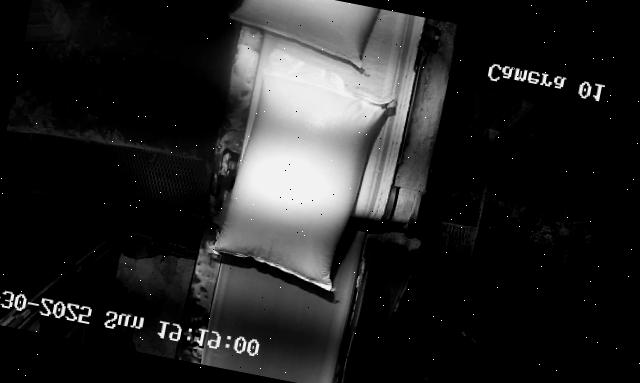bag: (211, 50, 401, 294), (227, 0, 384, 69)
